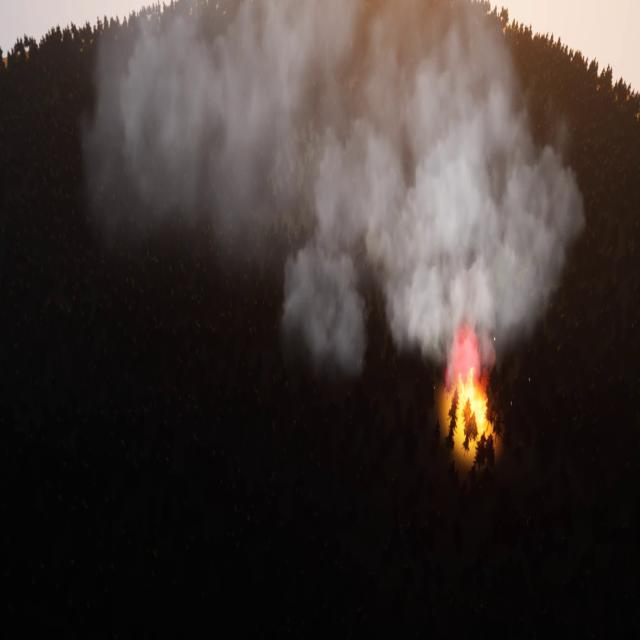fire: (454, 370, 496, 444)
smoke: (81, 0, 588, 375)
